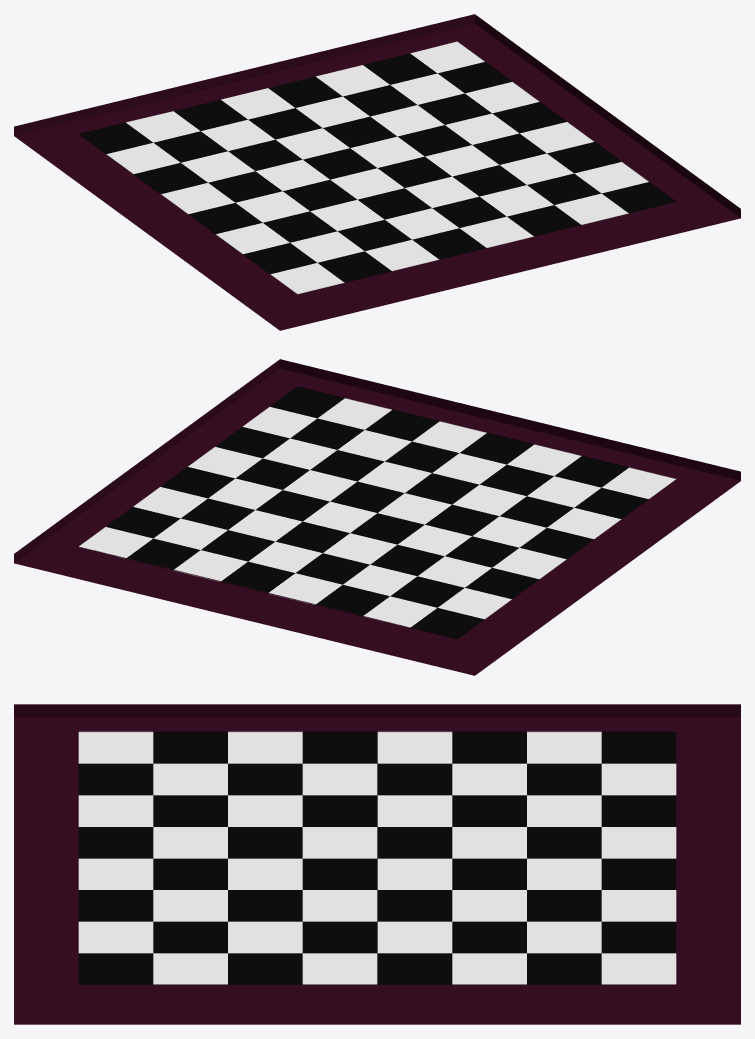
File: board.glb
The picture shows the model from 3 angles, top to bottom: view 1: azimuth 30°, elevation 25°; view 2: azimuth 150°, elevation 25°; view 3: azimuth 270°, elevation 25°; orthographic projection. The views are drawn at different scales.
Visible parts, largest first — view 1: Board; view 2: Board; view 3: Board.
Boxes of the visible parts, x1=… form: Board: x1=14, y1=14, x2=740, y2=330; Board: x1=14, y1=359, x2=740, y2=675; Board: x1=14, y1=704, x2=740, y2=1024.
Size of the model in its own units: 35.02 by 0.6964 by 35.02.
